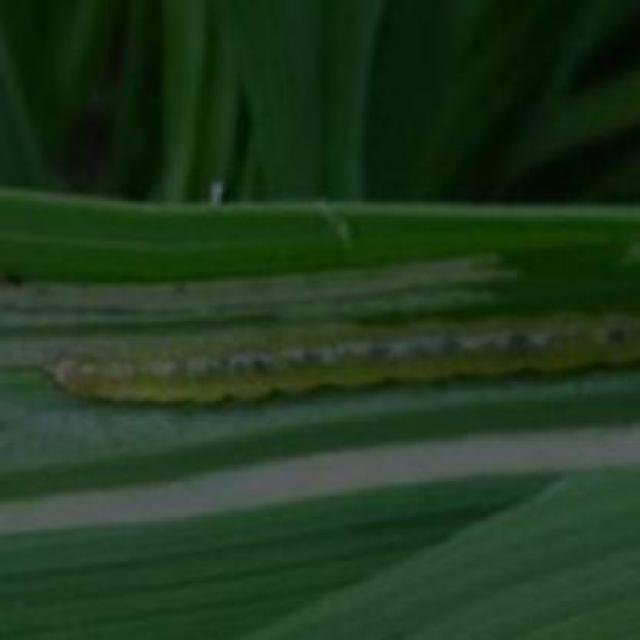leaf-folder: (41, 297, 640, 408)
